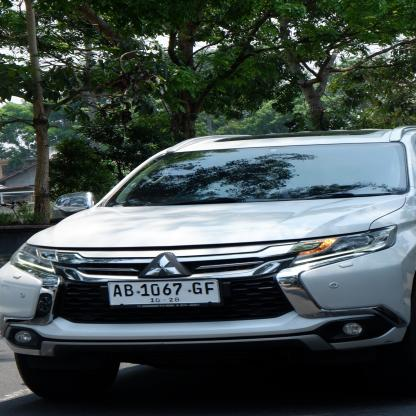Plat-Nomor: (102, 276, 226, 309)
